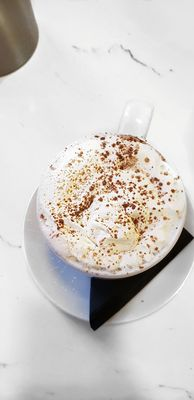curry: (0, 0, 193, 372)
sushi: (38, 131, 186, 279)
